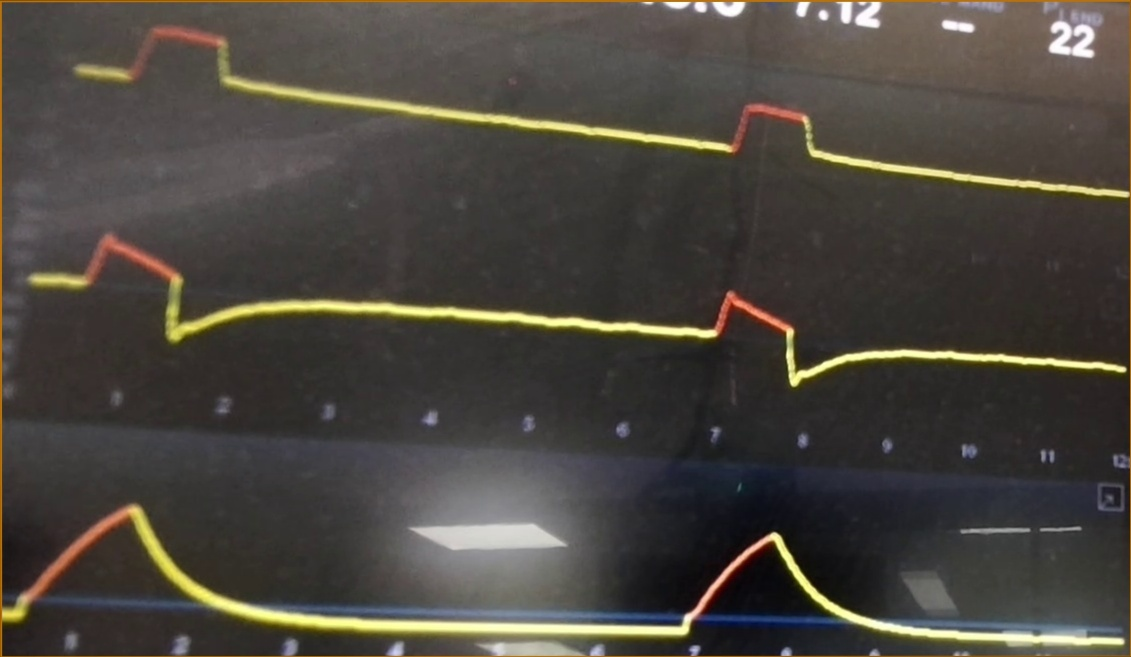Normal Flow: (33, 221, 1119, 394)
Normal Volume: (3, 477, 1121, 646)
